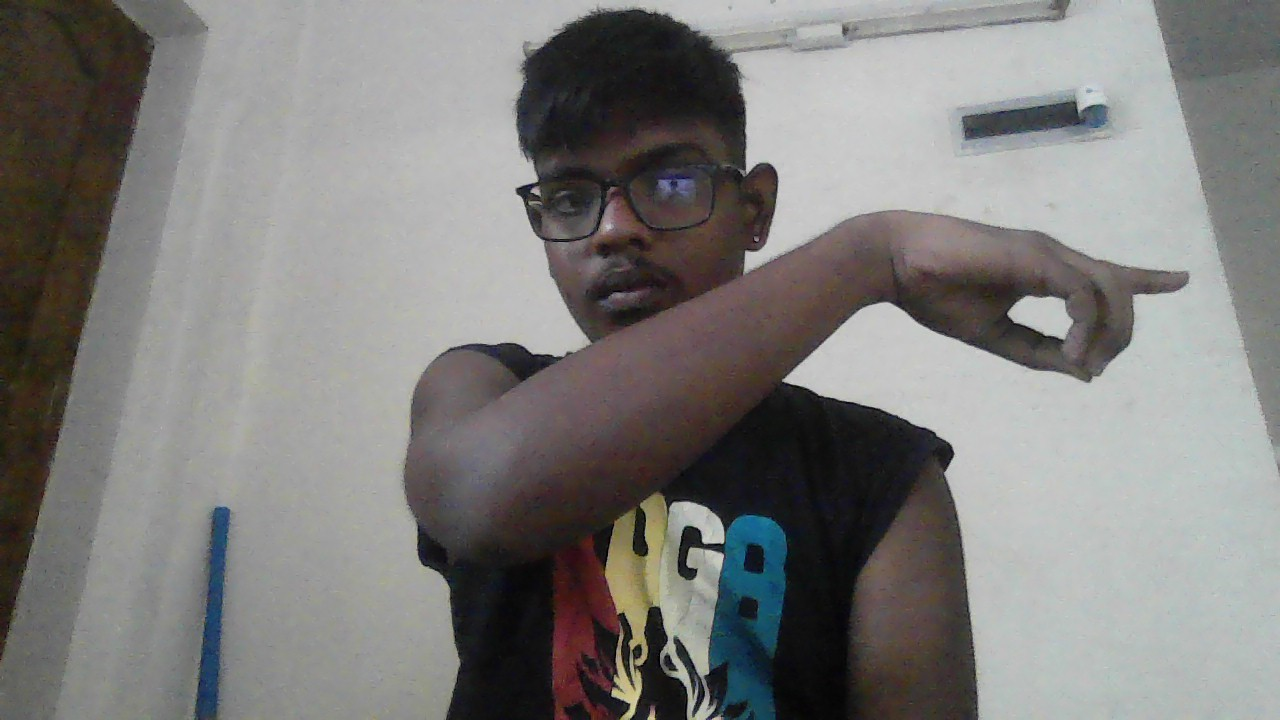P: (843, 209, 1191, 382)
